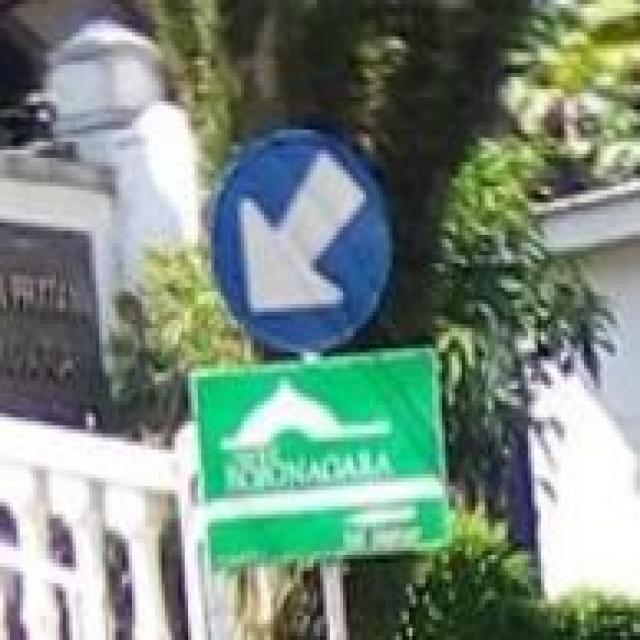traffic sign: (214, 130, 386, 340)
